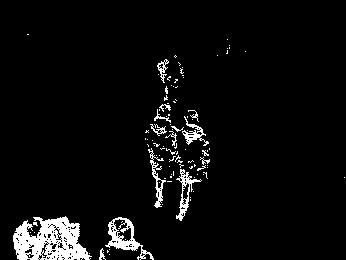person: (175, 107, 211, 224), (145, 100, 179, 210), (97, 215, 155, 260)
